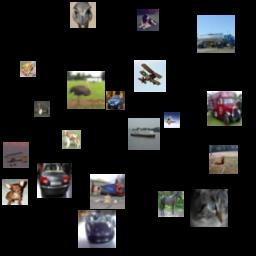airplane: (134, 60, 166, 92), (3, 142, 29, 168), (164, 112, 180, 128)
automobile: (78, 210, 116, 248), (37, 163, 72, 198), (106, 91, 125, 110)
bird: (67, 71, 105, 109), (70, 2, 96, 28)
cat: (190, 189, 228, 227)
deer: (209, 145, 238, 174), (34, 101, 50, 117)
dog: (2, 179, 28, 205), (137, 9, 159, 31), (62, 130, 81, 149)
frog: (20, 61, 36, 77)
ship: (128, 118, 160, 150)
truck: (197, 15, 235, 53), (207, 91, 242, 126), (90, 174, 125, 209)
